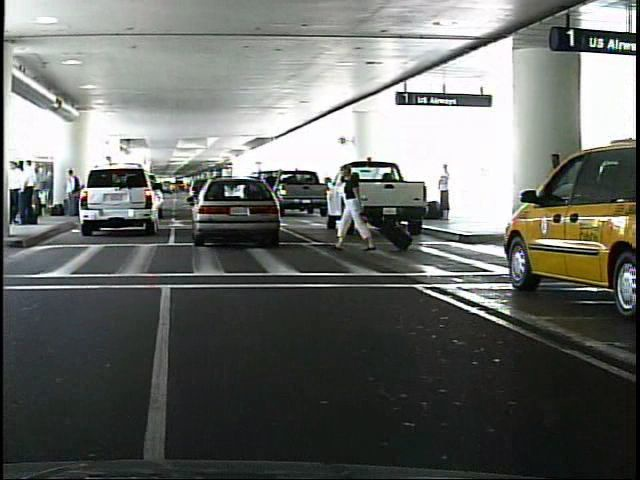person: (339, 161, 378, 255), (433, 160, 458, 220), (26, 159, 41, 227), (68, 165, 84, 221), (11, 160, 25, 222)
